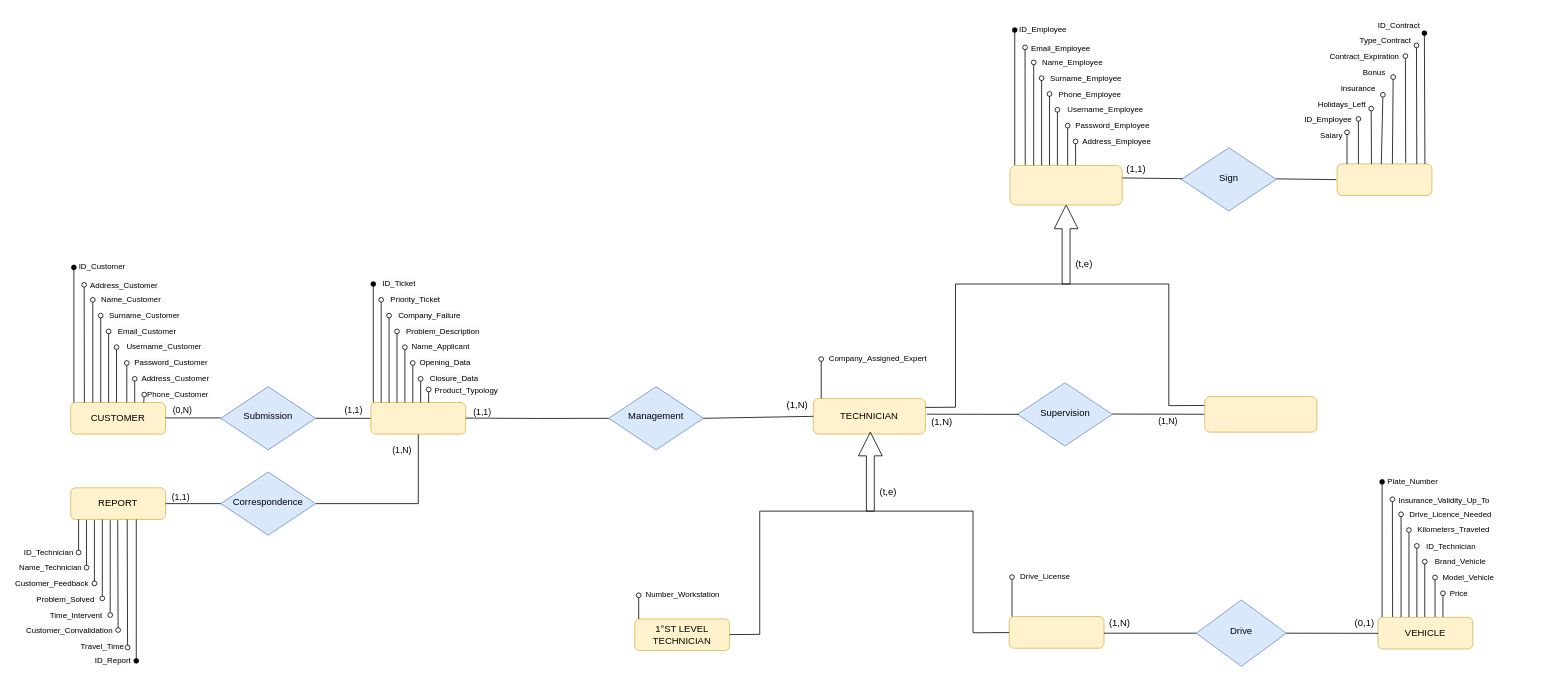
Image size: 1548x686. Some labels were removed from this diagram. The shapes that lost their labels are listed below. From the top down, each one's centre as x and y in pixels, then its label:
pixel 1065 185: Employee
pixel 1384 179: CONTRACT
pixel 418 418: TICKET
pixel 1260 414: MANAGER
pixel 1056 632: 2°ND LEVEL TECHNICIAN
